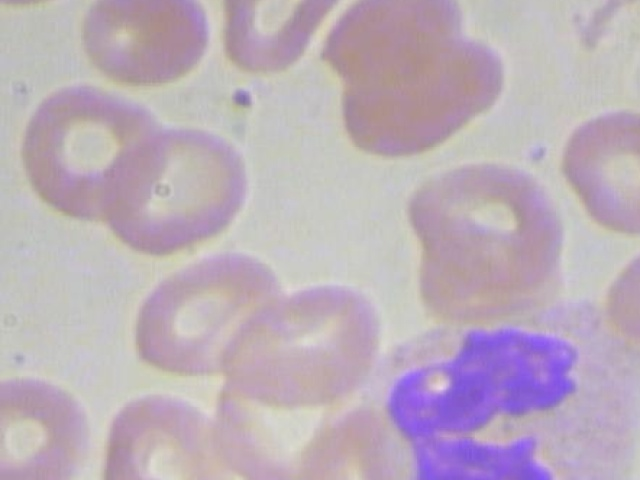RBC: (317, 0, 515, 170), (19, 75, 181, 227), (204, 274, 383, 410), (114, 244, 283, 380), (94, 117, 254, 257), (404, 153, 557, 281), (88, 385, 232, 480), (78, 0, 216, 86), (211, 0, 349, 86), (553, 105, 640, 233), (0, 367, 96, 480), (304, 406, 409, 480), (597, 237, 640, 365)
WBC: (349, 291, 640, 480)
